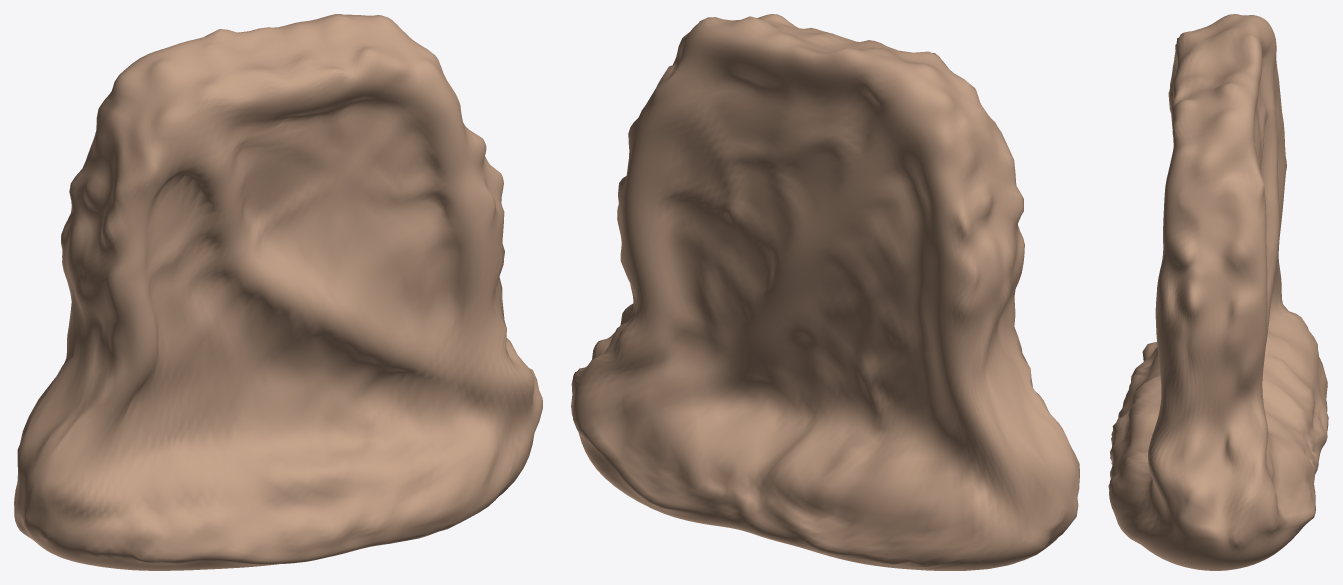
Rendered from WallOfSoulsUV.fbx.
3 views of the same model, side by side, from view 1: azimuth 30°, elevation 25°; view 2: azimuth 150°, elevation 25°; view 3: azimuth 270°, elevation 25° (orthographic). The views are drawn at different scales.
Visible parts, largest first — view 1: WallofSouls_LP; view 2: WallofSouls_LP; view 3: WallofSouls_LP.
Boxes of the visible parts, left/top/right/bottom form: WallofSouls_LP: left=14, top=14, right=542, bottom=570; WallofSouls_LP: left=571, top=14, right=1079, bottom=570; WallofSouls_LP: left=1108, top=14, right=1328, bottom=570.
Size of the model in its own units: 226 by 215 by 97.8.
